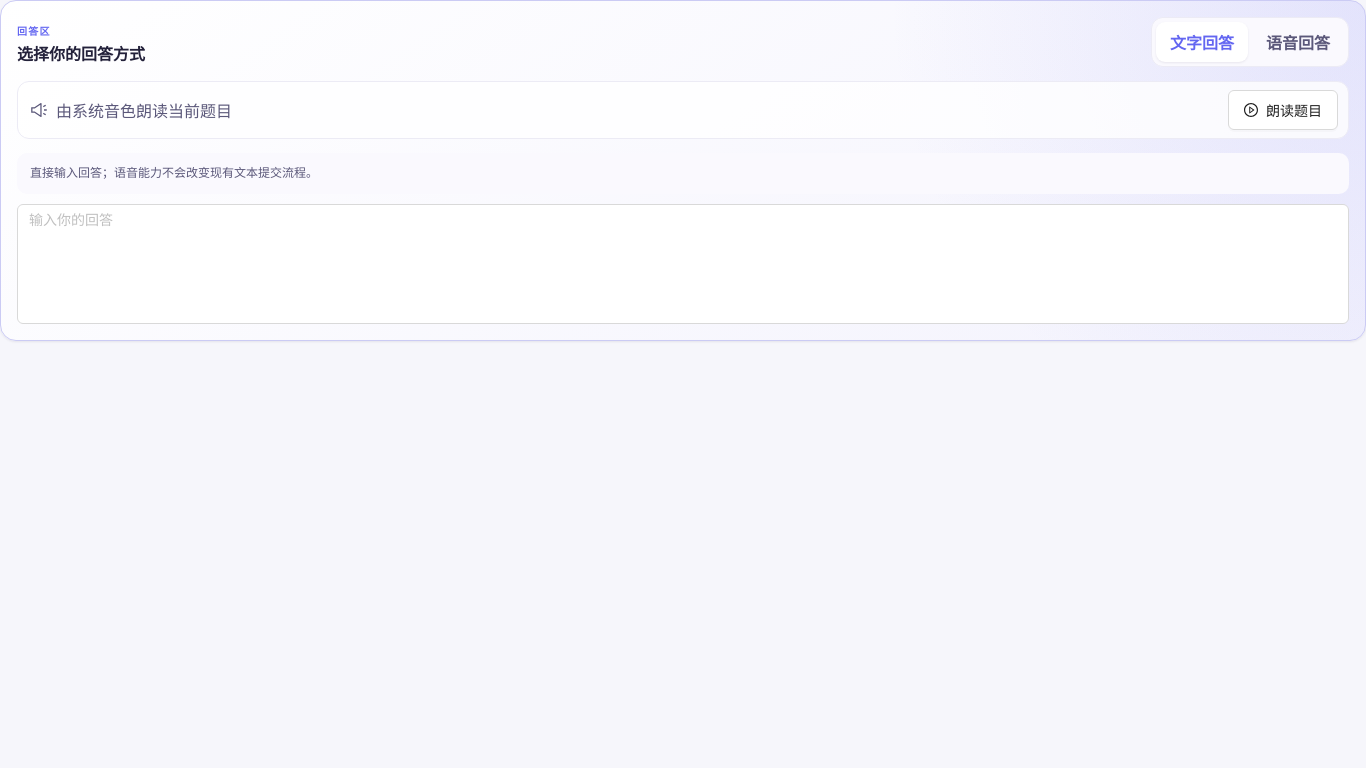
it: VoiceAnswerComposer › stops at the five-minute boundary without confirming and keeps batch fallback explicit
Click the button "语音回答": (1298, 42) left=1252, top=22, right=1344, bottom=62
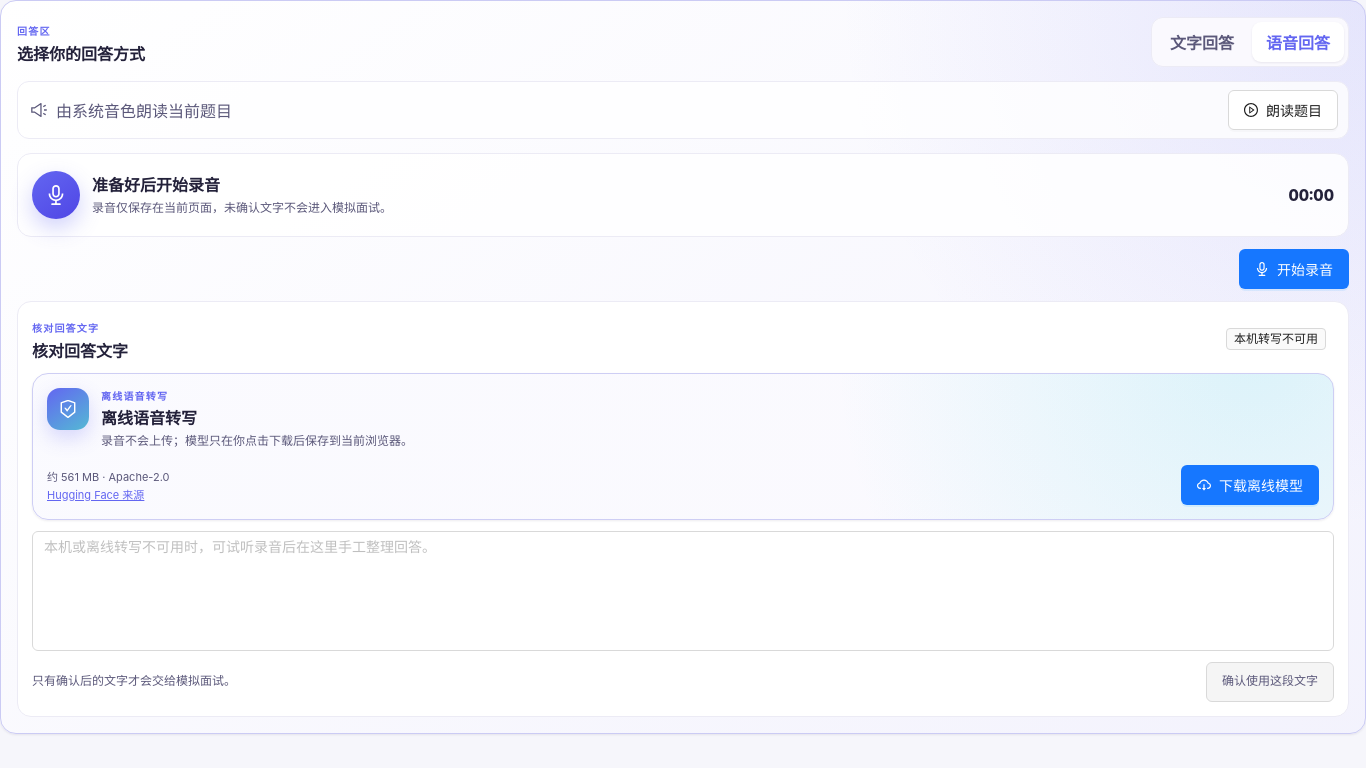
Click the button "开始录音": (1294, 269) left=1239, top=249, right=1349, bottom=289
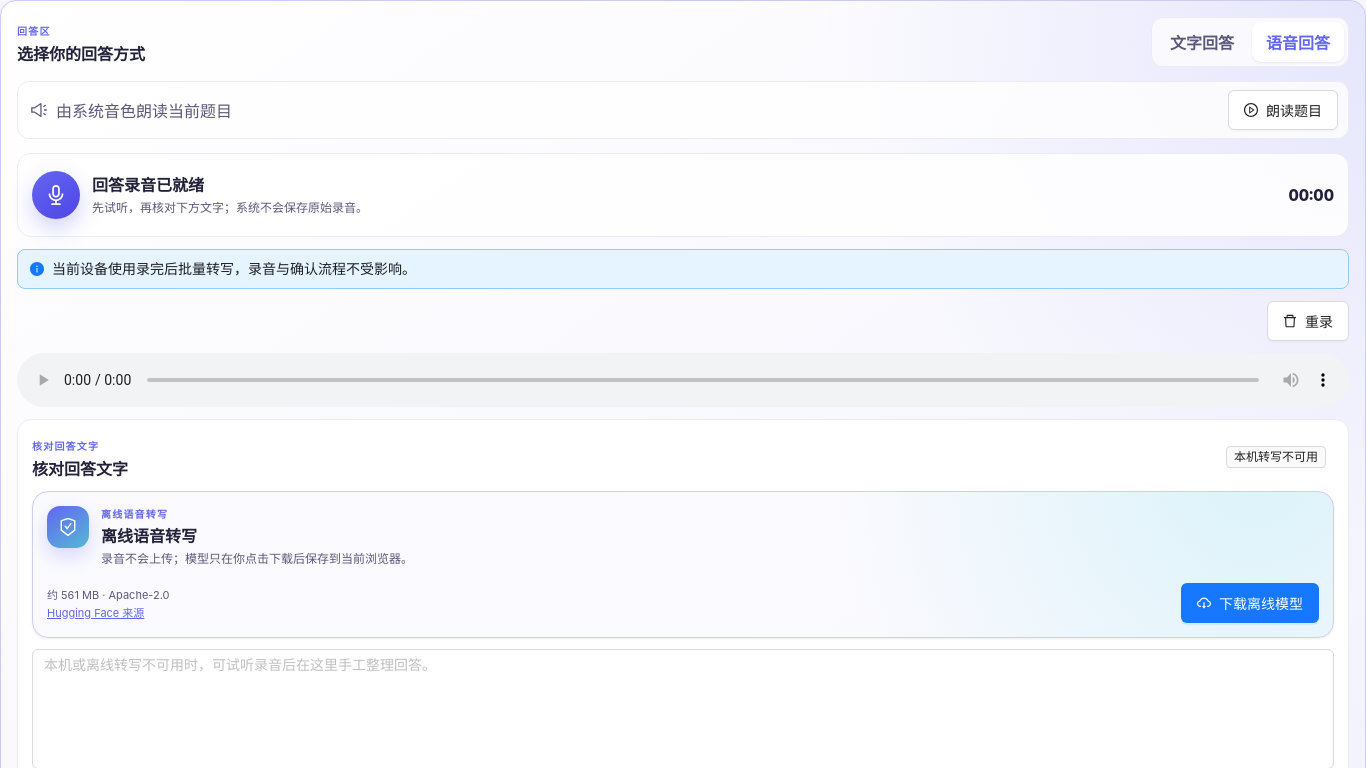
Check: the text "录完后批量转写" is shown, box left=52, top=260, right=416, bottom=277
